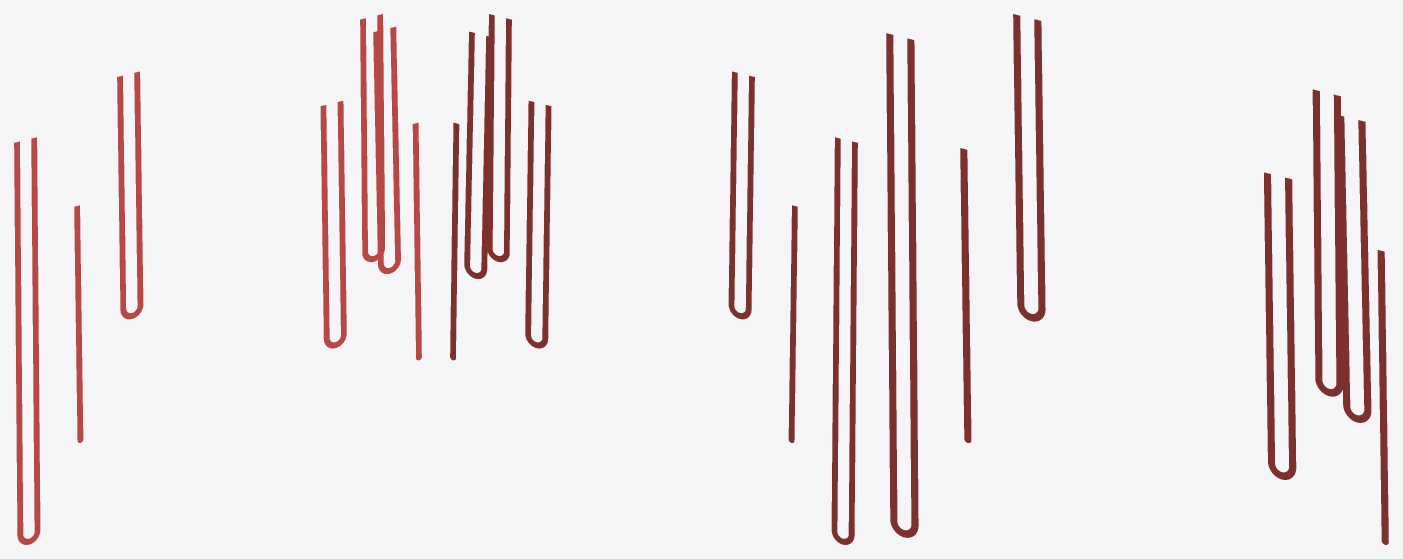
File: liane4.gltf
The picture shows the model from 3 angles, left to right: view 1: azimuth 30°, elevation 25°; view 2: azimuth 150°, elevation 25°; view 3: azimuth 330°, elevation 25°; orthographic projection. The views are drawn at different scales.
Parts seen in each view (by area): view 1: Curve.006; view 2: Curve.006; view 3: Curve.006.
Part boxes in pixels (x1=…): Curve.006: x1=14, y1=14, x2=421, y2=544; Curve.006: x1=450, y1=14, x2=857, y2=544; Curve.006: x1=886, y1=14, x2=1388, y2=544.
Bounding box in the file's own units: 0.9273 × 0.9695 × 0.0133.
